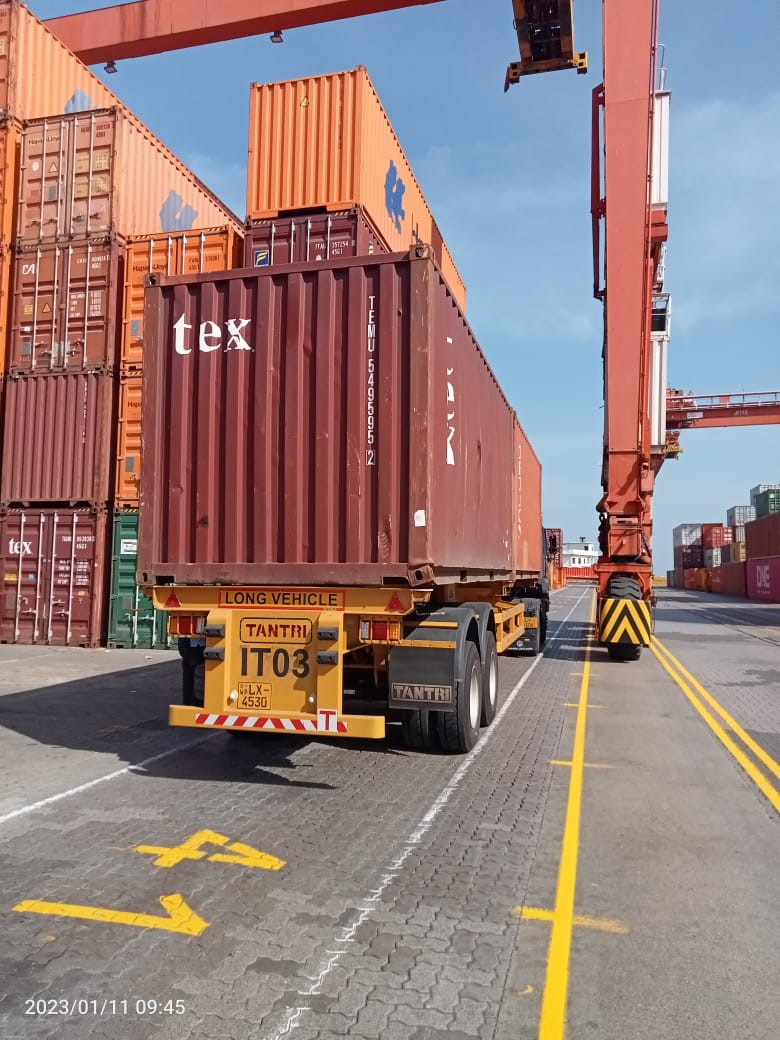dented: (462, 429, 498, 484)
